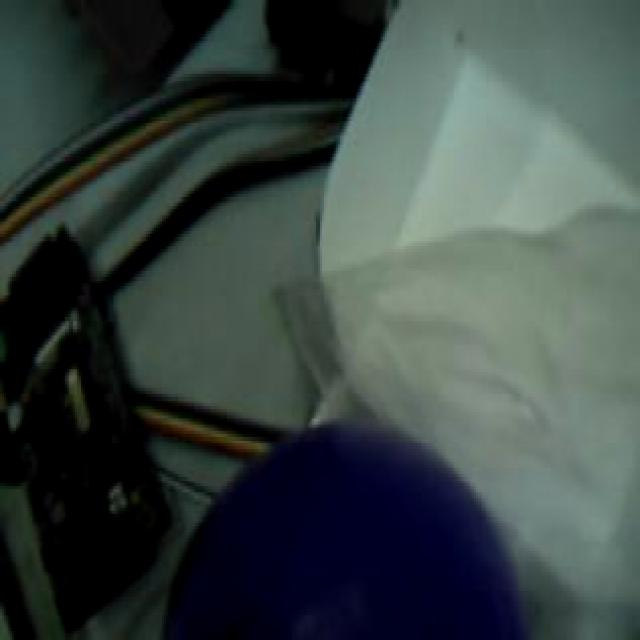BallPurple: (162, 425, 522, 640)
